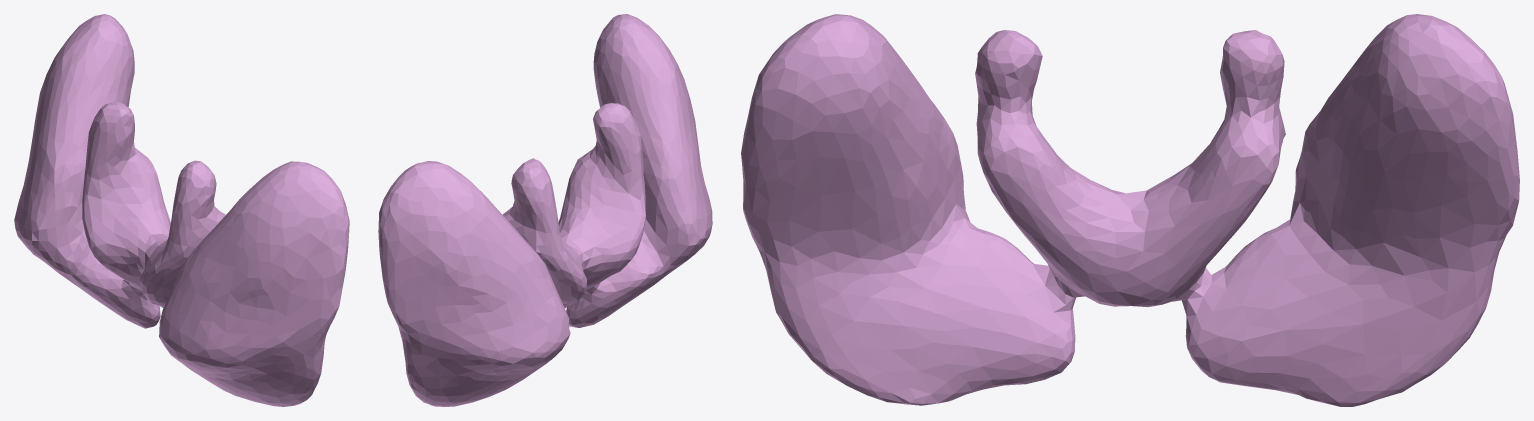
3 renders of one model, left to right at view 1: azimuth 30°, elevation 25°; view 2: azimuth 150°, elevation 25°; view 3: azimuth 270°, elevation 25°, orthographic. The views are drawn at different scales.
Parts seen in each view (by area): view 1: 1100.obj; view 2: 1100.obj; view 3: 1100.obj.
Boxes of the visible parts, bbox=[...] form: 1100.obj: bbox=[14, 14, 349, 406]; 1100.obj: bbox=[378, 14, 712, 406]; 1100.obj: bbox=[741, 14, 1519, 406].
Size of the model in its own units: 1089 by 1975 by 3580.
